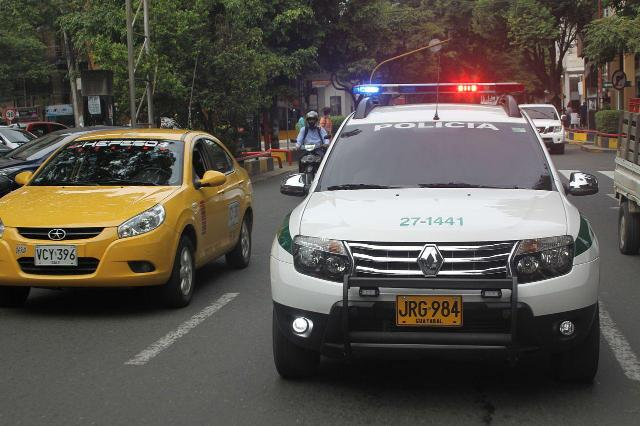police: (252, 71, 608, 397)
